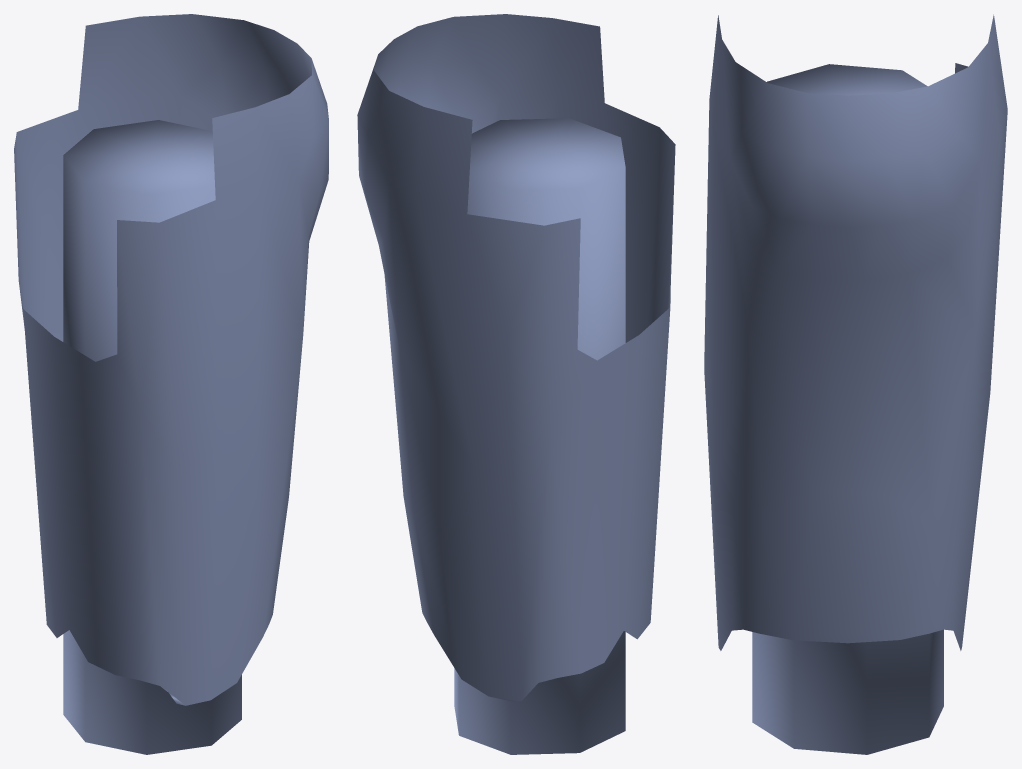
The model's file is icub_simple_collision_l_shank.dae.
3 renders of one model, left to right at view 1: azimuth 30°, elevation 25°; view 2: azimuth 150°, elevation 25°; view 3: azimuth 270°, elevation 25°, orthographic. The views are drawn at different scales.
Visible parts, largest first — view 1: l_shank_mesh; view 2: l_shank_mesh; view 3: l_shank_mesh.
Boxes of the visible parts, <box> form: l_shank_mesh: <box>14,14,328,754</box>; l_shank_mesh: <box>357,14,675,754</box>; l_shank_mesh: <box>704,14,1007,754</box>.
Size of the model in its own units: 0.1035 by 0.2446 by 0.0961.
